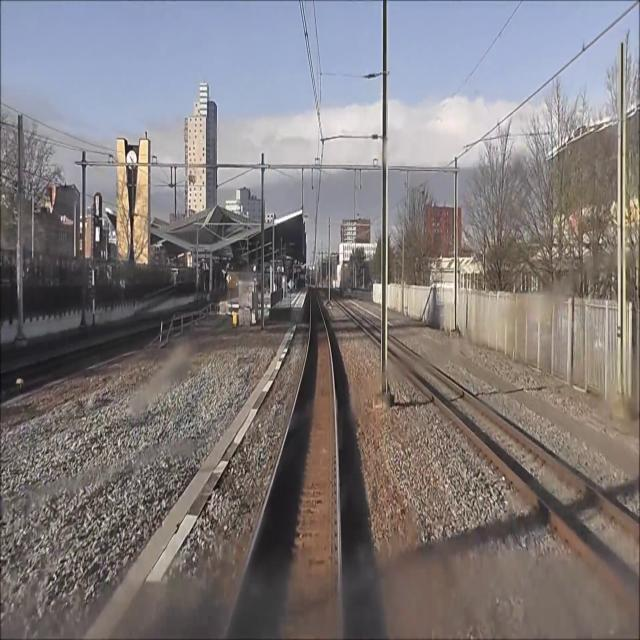rail-track: (387, 335, 640, 600), (227, 287, 338, 639), (0, 319, 186, 383), (338, 300, 380, 341)
